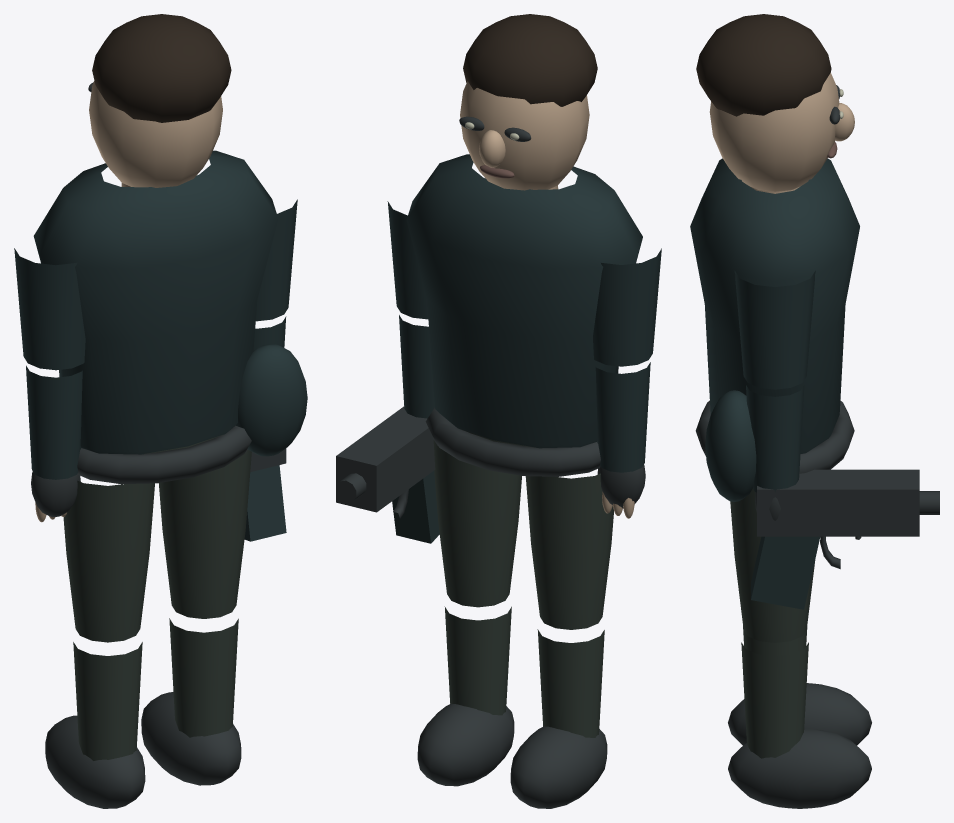
File: survivor.glb
3 renders of one model, left to right at view 1: azimuth 30°, elevation 25°; view 2: azimuth 150°, elevation 25°; view 3: azimuth 270°, elevation 25°, orthographic. The views are drawn at different scales.
Visible parts, largest first — view 1: object 1, head, legL, kneeR, kneeL, legR, elbowL, armL, object 15, object 3, pistol, armR (+1 smaller); view 2: object 1, head, kneeR, kneeL, legL, legR, pistol, elbowL, armL, object 3, elbowR, armR; view 3: object 1, head, pistol, kneeR, armR, elbowR, legR, object 15, kneeL, object 3.
Boxes of the visible parts, x1,y1,x2,y2 form: object 1: (33, 150, 278, 454); head: (88, 14, 231, 187); legL: (63, 480, 154, 642); kneeR: (141, 618, 241, 785); kneeL: (45, 642, 145, 808); legR: (158, 450, 251, 618); elbowL: (26, 365, 82, 522); armL: (14, 248, 85, 370); object 15: (236, 344, 307, 456); object 3: (77, 425, 251, 484); pistol: (244, 448, 286, 541); armR: (255, 199, 297, 321); object 1: (406, 154, 642, 448); head: (459, 14, 597, 190); kneeR: (417, 606, 514, 786); kneeL: (510, 629, 607, 808); legL: (525, 473, 613, 629); legR: (433, 440, 521, 607); pistol: (336, 406, 439, 543); elbowL: (595, 362, 650, 518); armL: (593, 248, 661, 366); object 3: (425, 407, 600, 476); elbowR: (399, 315, 434, 418); armR: (387, 201, 428, 319); object 1: (690, 158, 859, 453); head: (696, 14, 854, 191); pistol: (751, 469, 939, 609); kneeR: (728, 642, 871, 808); armR: (734, 270, 815, 389); elbowR: (746, 385, 804, 520); legR: (730, 489, 815, 642); object 15: (705, 390, 756, 501); kneeL: (728, 626, 871, 745); object 3: (695, 400, 854, 473).
Size of the model in its own units: 0.68 by 1.86 by 0.5535.
